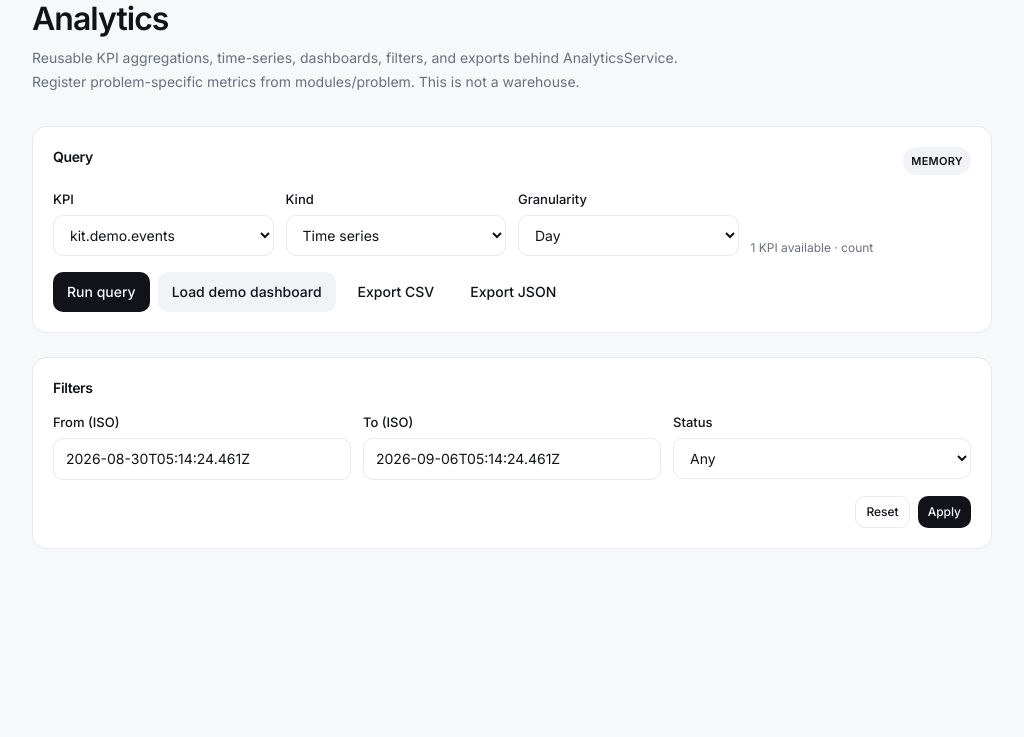
Test: AnalyticsPage › loads KPIs and runs a demo time-series query
Check: the text "1 KPI available · count" is shown, box [750,240,873,255]
What coordinates should you click on to do the following:
click the button "Run query"
I would click on:
 (101, 292)
Its box is [53,272,150,312].
(page scrolled)
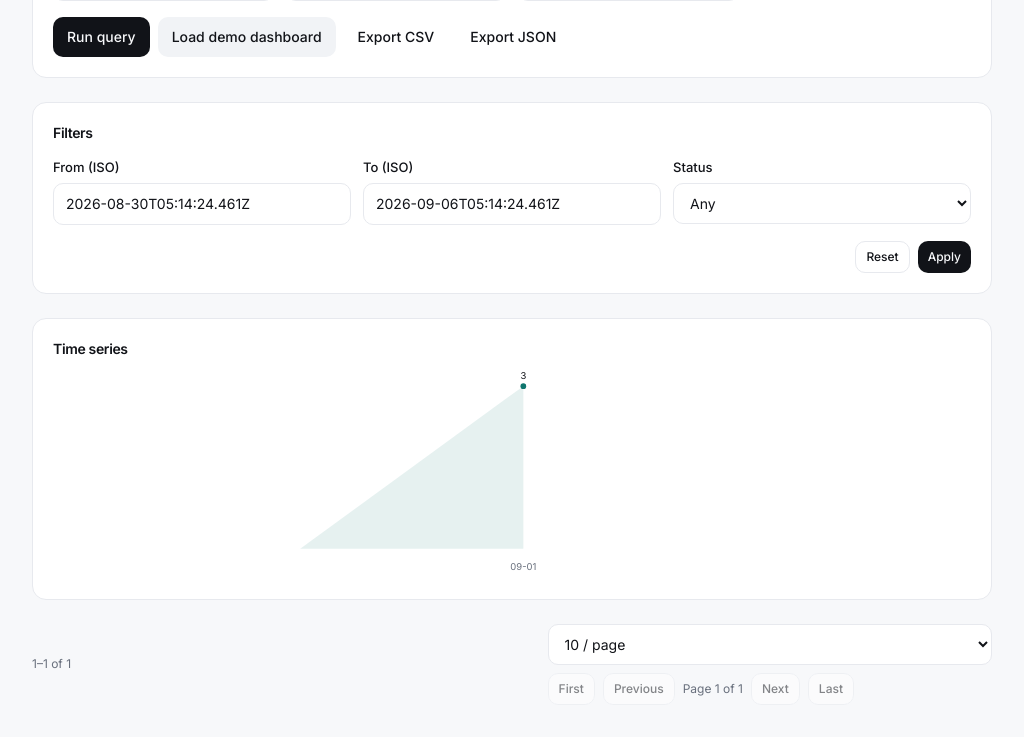
Check: the picture named "Time series" is shown, box [53,371,971,579]
